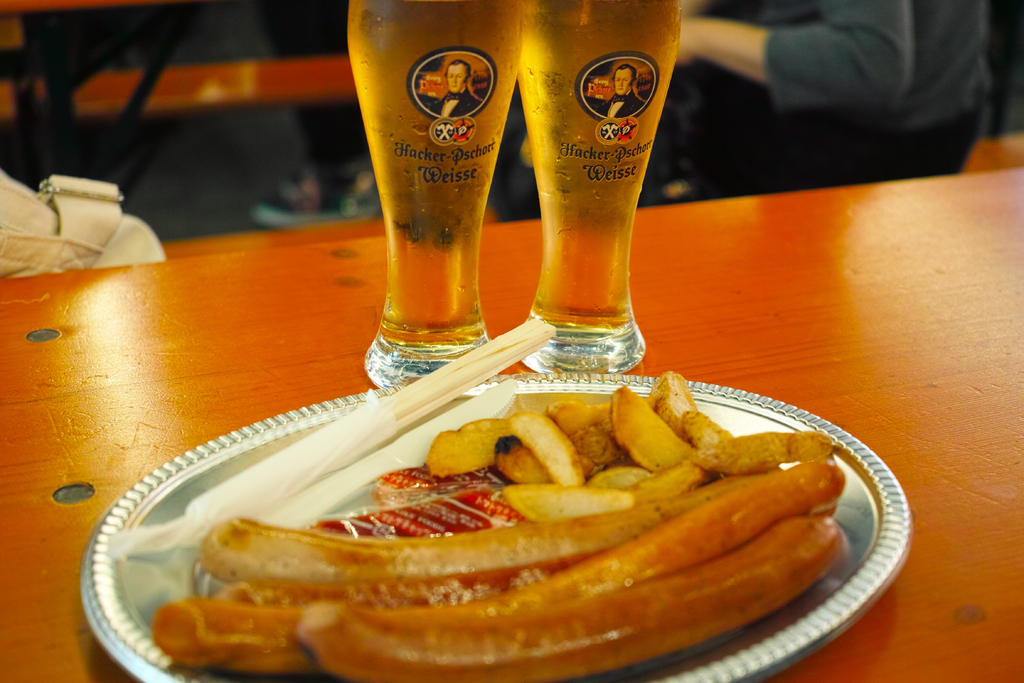French fries: (453, 378, 760, 546)
